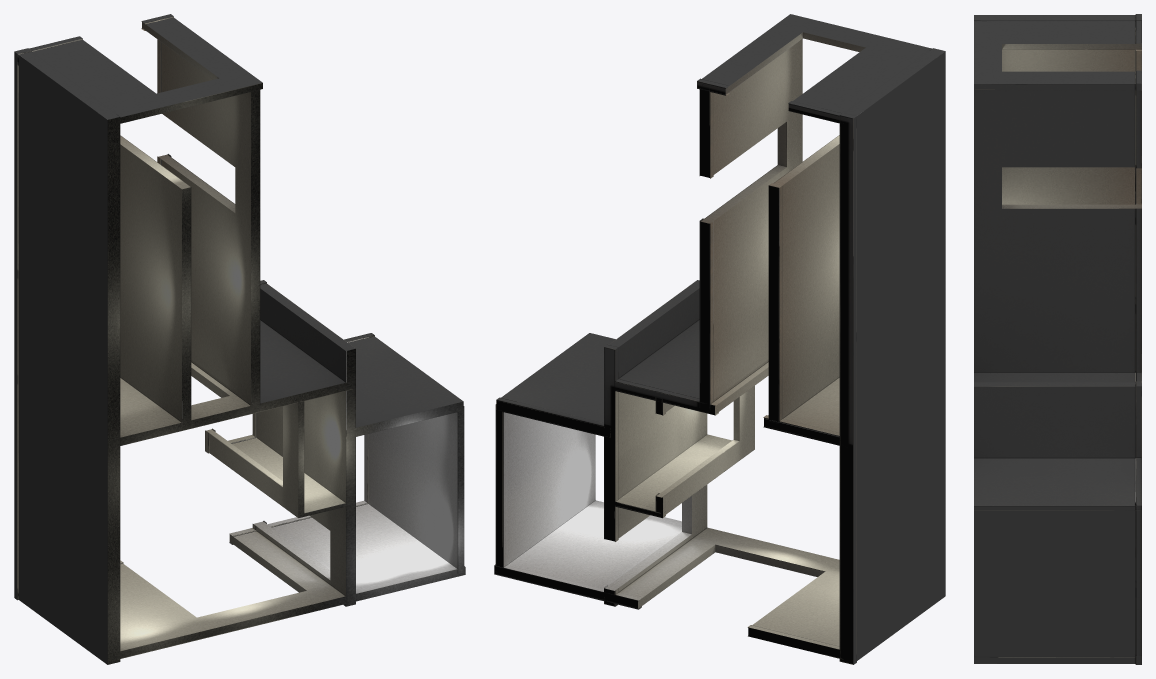
File: wall_vm.obj
The picture shows the model from 3 angles, left to right: view 1: azimuth 30°, elevation 25°; view 2: azimuth 150°, elevation 25°; view 3: azimuth 270°, elevation 25°; orthographic projection. The views are drawn at different scales.
Bounding box in the file's own units: 5.37 × 7.8 × 2.4.
Materials: 1 (1 with a texture image).
